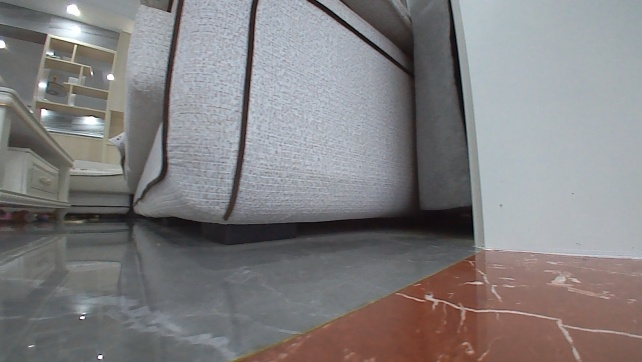sofa: (63, 0, 421, 248)
tea_table1: (0, 83, 75, 224)
